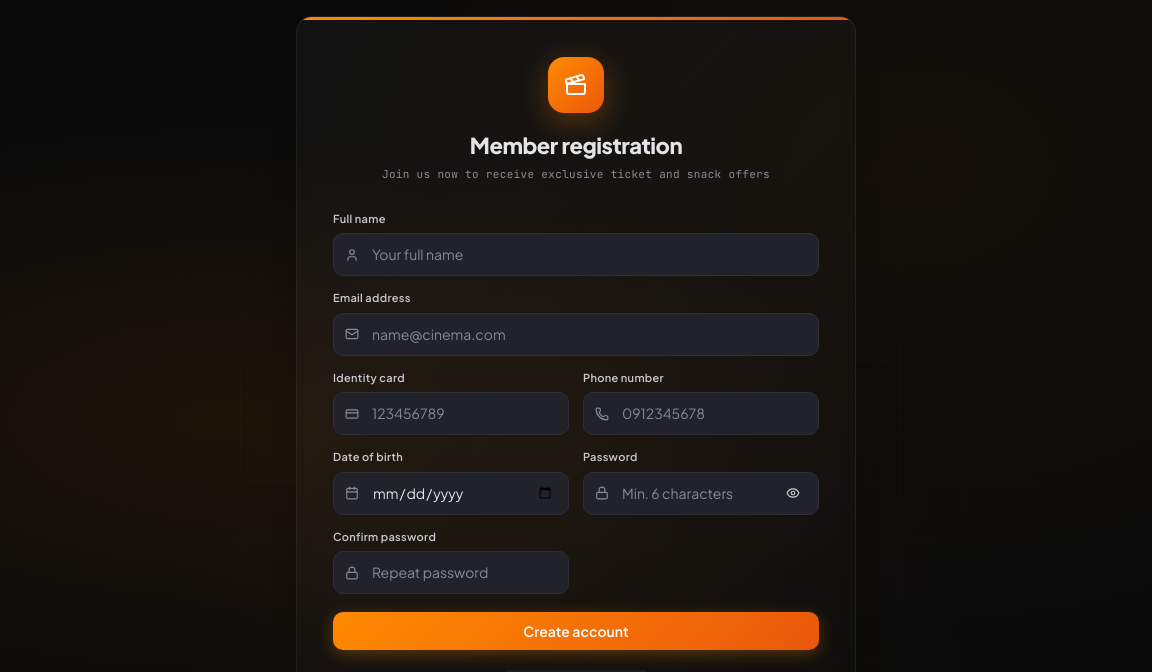
RegisterForm › shows error when passwords do not match
Type "Test User" into the field with placeholder "Your full name" at (576,254), box top-left (333, 233), bottom-right (819, 276)
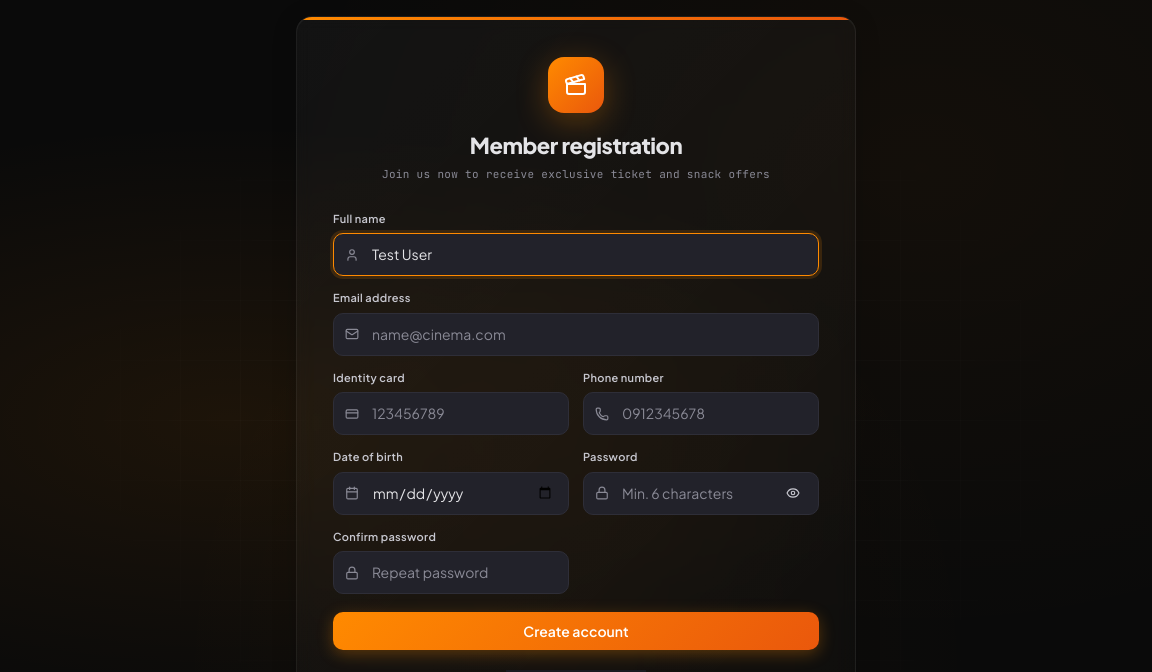
Type "test@example.com" into the field with placeholder "name@cinema.com" at (576,334), box top-left (333, 312), bottom-right (819, 356)
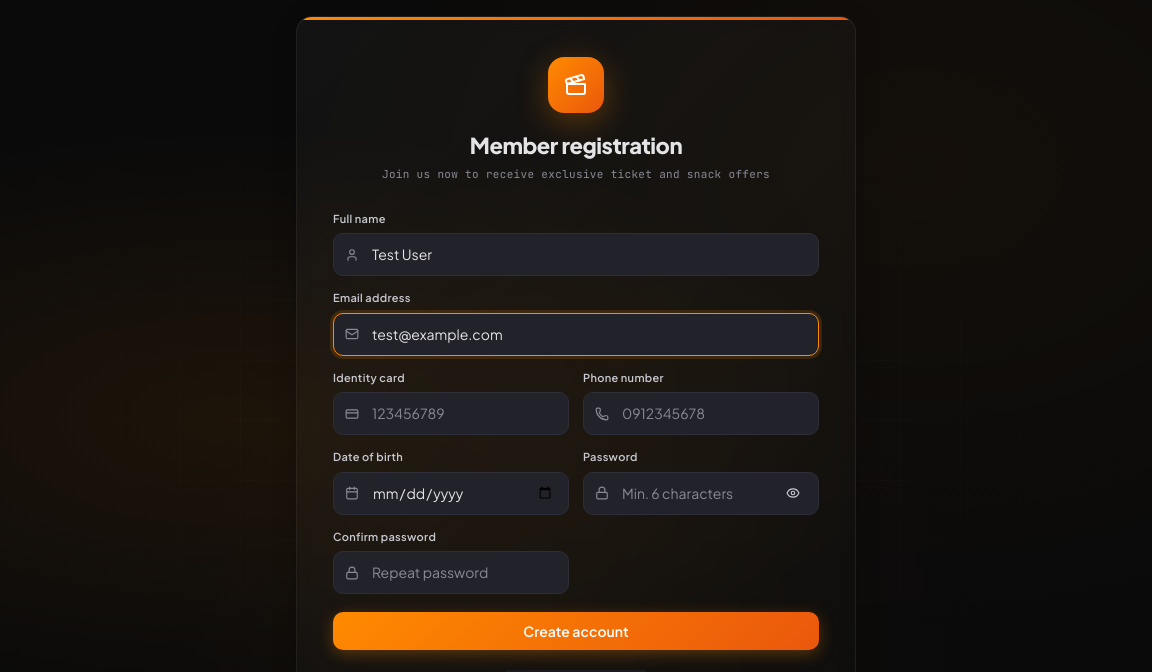
Type "P@ssword123!" into the password field with placeholder "Min. 6 characters" at (701,493), box top-left (583, 472), bottom-right (819, 514)
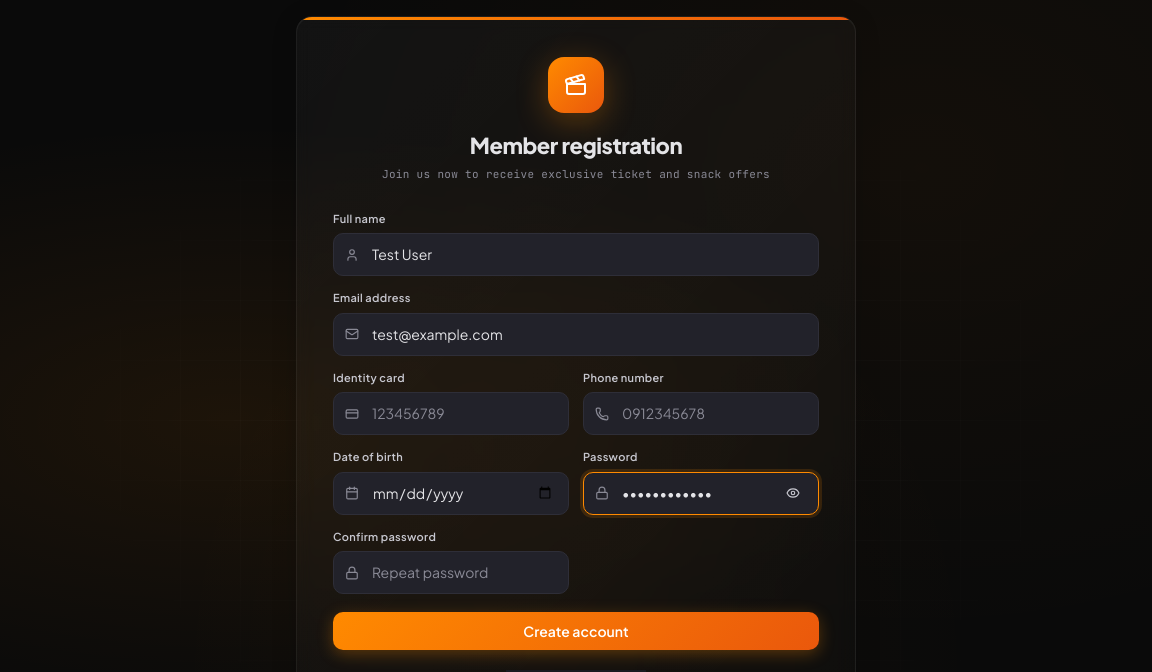
Type "DifferentP@ss!" into the password field with placeholder "Repeat password" at (451,572), box top-left (333, 551), bottom-right (569, 594)
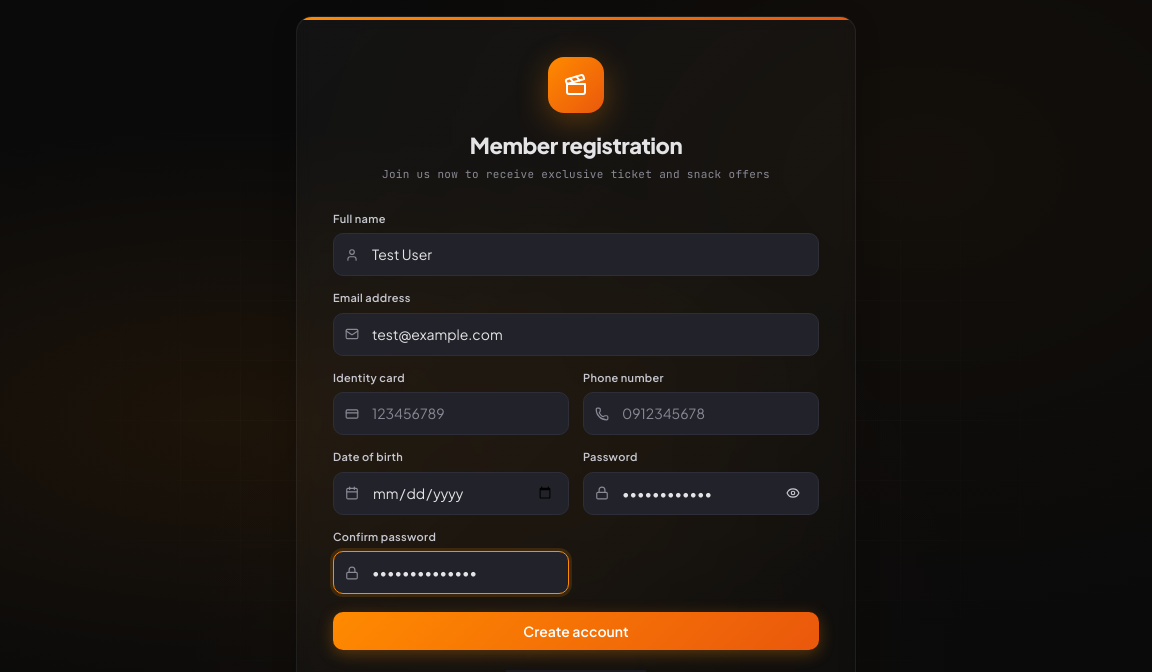
Click the button "Create account" at (576,631), box top-left (333, 612), bottom-right (819, 650)
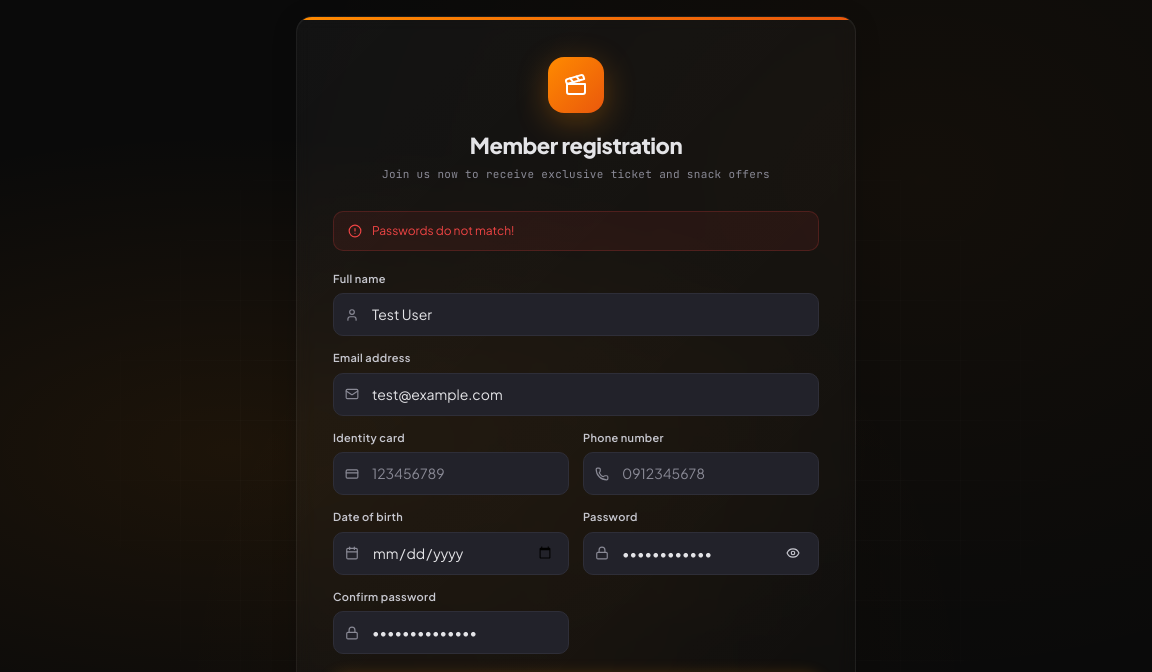
Expected: the text "Passwords do not match!" is shown, top-left (372, 222), bottom-right (514, 240)
